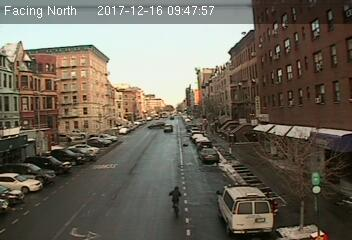bicycle: (169, 186, 184, 221)
car: (200, 148, 218, 162), (163, 123, 174, 133)
police: (215, 181, 275, 236)
